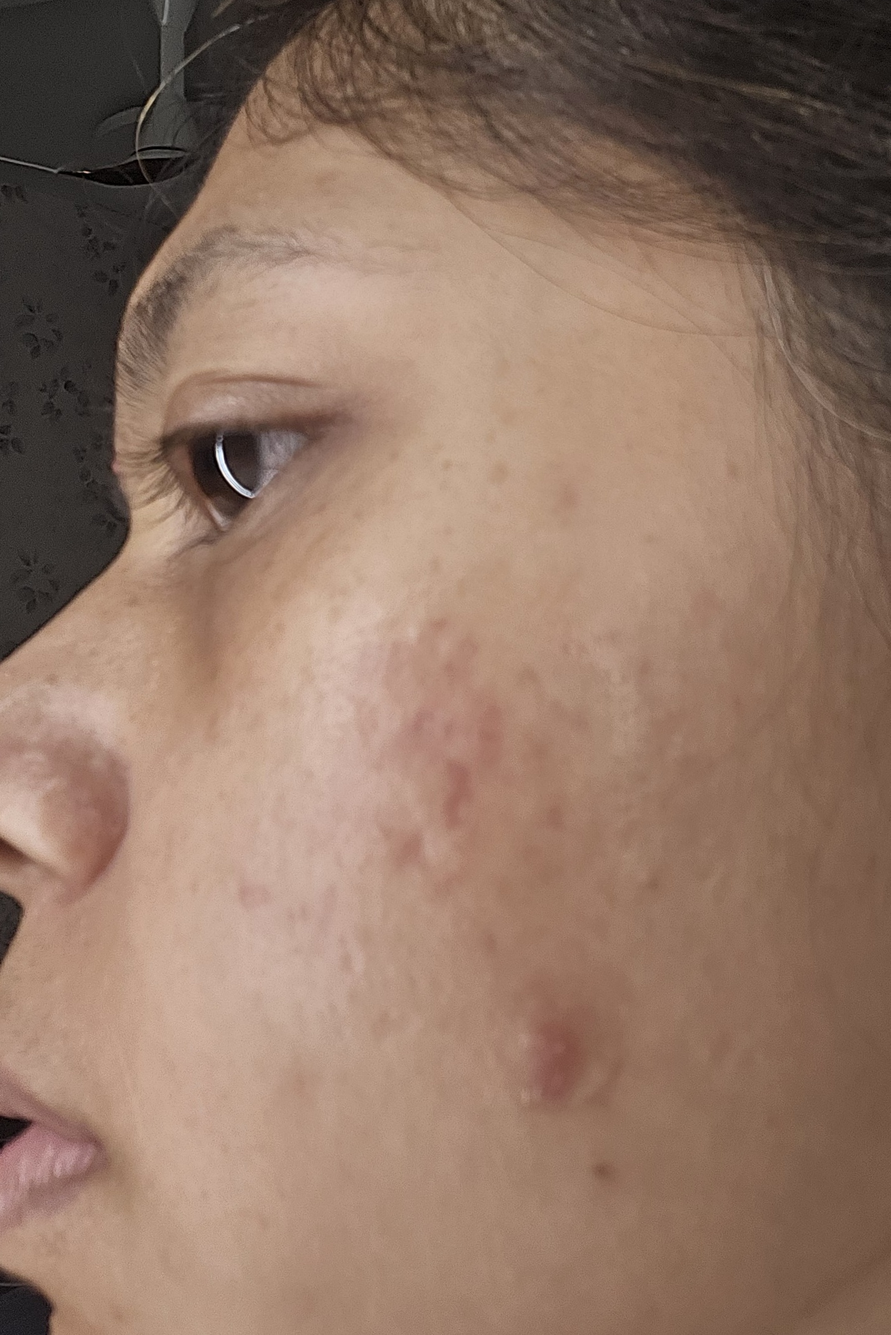nodule: (518, 995, 597, 1120)
papule: (404, 620, 483, 697), (448, 697, 534, 759), (428, 750, 478, 838), (225, 873, 298, 933), (375, 691, 439, 746)
